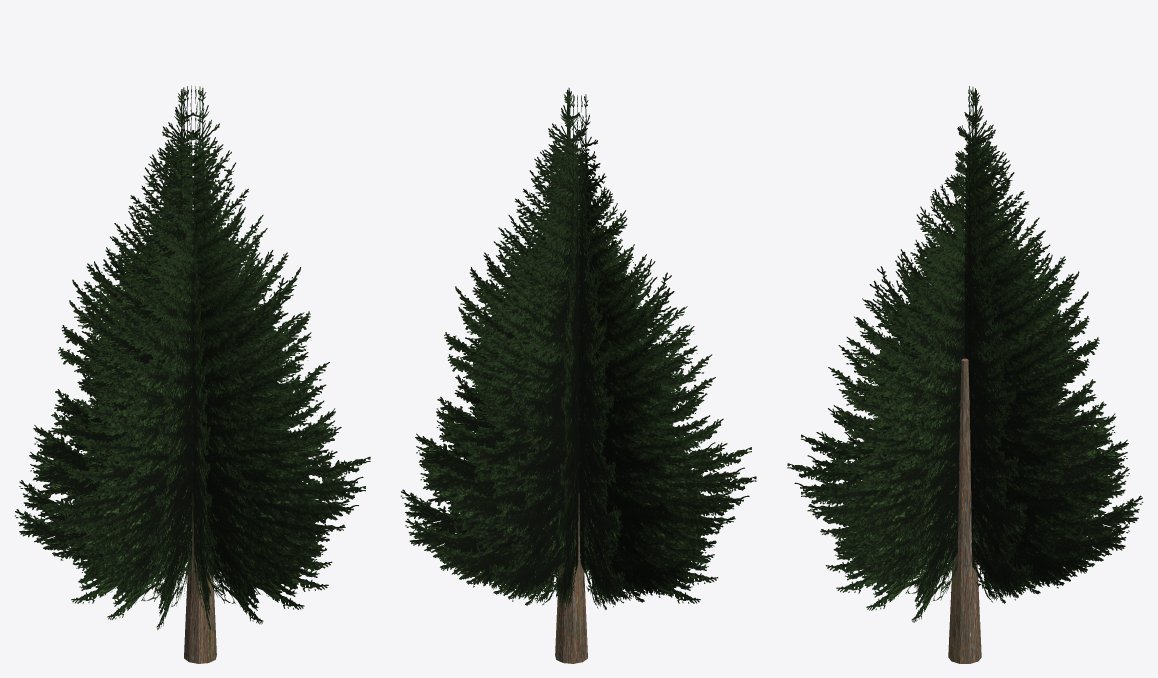
The model's file is Tree.obj.
The picture shows the model from 3 angles, left to right: view 1: azimuth 30°, elevation 25°; view 2: azimuth 150°, elevation 25°; view 3: azimuth 270°, elevation 25°; orthographic projection.
Visible parts, largest first — view 1: Tree; view 2: Tree; view 3: Tree.
Boxes of the visible parts, x1,y1,x2,y2 form: Tree: (15,85,370,663); Tree: (401,88,756,663); Tree: (787,86,1143,663).
Bounding box in the file's own units: 21.38 × 37.21 × 21.38.
